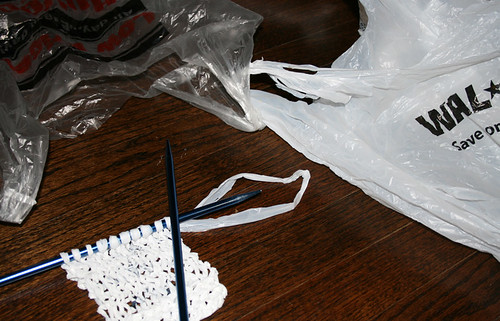plastic bag: (251, 1, 500, 263), (2, 1, 267, 227)
